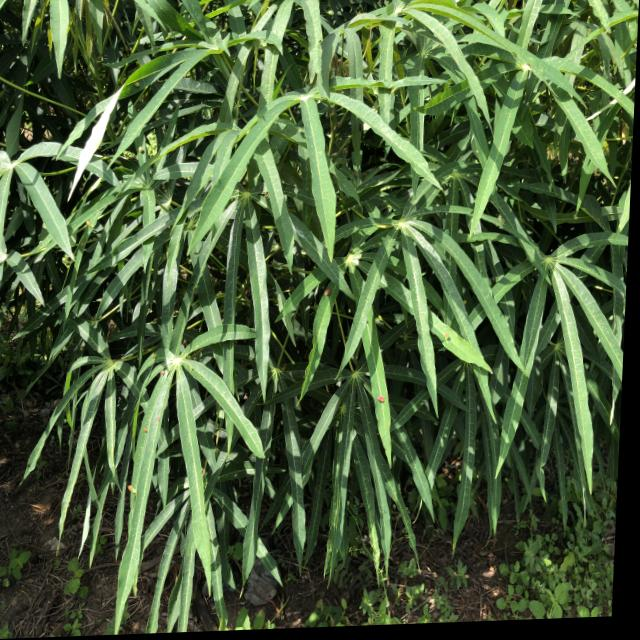Mosca: (119, 473, 141, 495), (79, 212, 101, 232), (122, 76, 144, 96), (159, 357, 174, 381), (139, 417, 158, 434), (439, 328, 456, 346), (370, 391, 386, 407), (317, 283, 335, 296)
